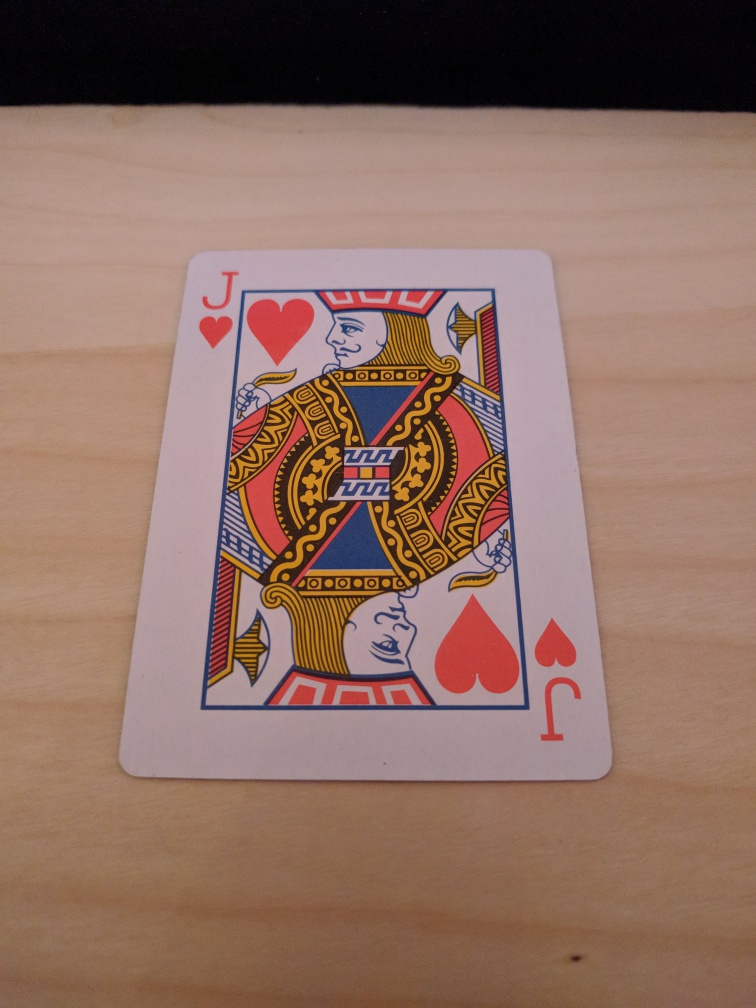jack: (116, 246, 614, 784)
